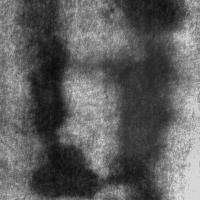patches: (62, 9, 200, 163), (94, 38, 180, 200), (20, 1, 72, 140), (24, 142, 105, 199), (115, 1, 186, 37)
